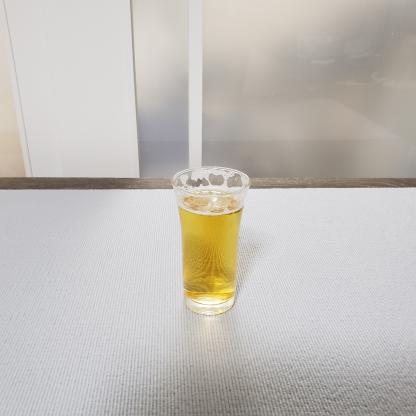glass: (168, 157, 268, 321)
